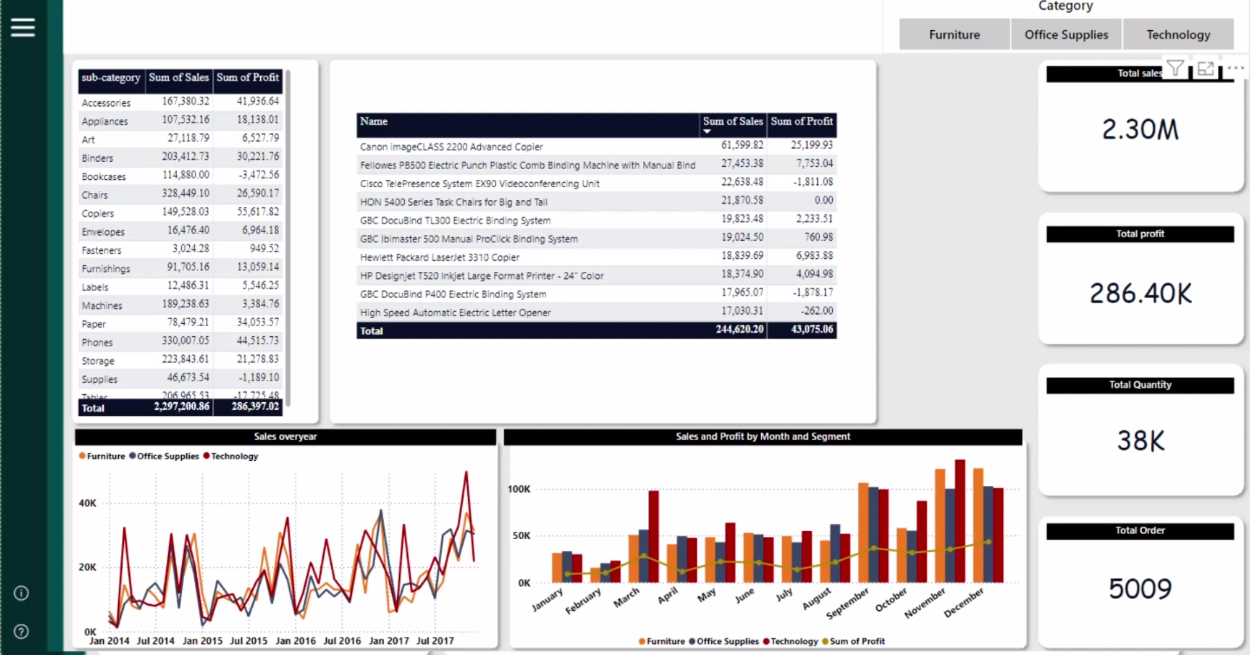

The dashboard page shown, as its layout file describes it:
{"tool":"powerbi","page":{"name":"Product","canvas":[1900,1000],"ordinal":3},"visuals":[{"type":"shape","title":"Close buttom","box":[358.8,0,1541.2,1000],"z":0,"group":"g2"},{"type":"actionButton","title":"Product","box":[36.8,352.9,308.8,61.8],"z":0,"group":"g1"},{"type":"shape","box":[766.7,665,803.3,335],"z":0},{"type":"actionButton","title":"Qs","box":[17.5,936.4,33.2,58.6],"z":0,"group":"g3"},{"type":"shape","title":"Flyout","box":[85.3,0,273.5,1000],"z":1000,"group":"g2"},{"type":"actionButton","title":"Location","box":[36.8,184.3,308.8,61.8],"z":1000,"group":"g1"},{"type":"shape","box":[101.7,665,665,335],"z":1000},{"type":"actionButton","title":"Info","box":[17.5,877.8,33.2,58.6],"z":1000,"group":"g3"},{"type":"actionButton","title":"Menu Button","box":[11.7,6.7,47.8,82.2],"z":2000,"group":"g3"},{"type":"group","id":"g1","title":"page","box":[35.3,100,310.3,314.7],"z":2000,"group":"g2"},{"type":"actionButton","title":"Customer","box":[35.3,268.6,308.8,61.8],"z":2000,"group":"g1"},{"type":"lineChart","title":"Sales overyear","fields":{"Y":["Sum(Forder.Sales)"],"Category":["DimDate.order Date.Variation.Date Hierarchy.Year","DimDate.order Date.Variation.Date Hierarchy.Quarter","DimDate.order Date.Variation.Date Hierarchy.Month"],"Series":["DIMProduct.category"]},"box":[115,658.3,640,341.7],"z":2000},{"type":"actionButton","title":"Sales","box":[36.8,100,308.8,61.8],"z":3000,"group":"g1"},{"type":"lineClusteredColumnComboChart","title":"Sales and Profit by Month and Segment","fields":{"Category":["DimDate.order Date.Variation.Date Hierarchy.Month"],"Y":["Sum(Forder.Sales)"],"Y2":["Sum(Forder.Profit)"],"Series":["DIMProduct.category"]},"box":[766.7,658.3,788.3,341.7],"z":3000},{"type":"shape","box":[1570,781.7,330,218.3],"z":4000},{"type":"shape","box":[1570,550.6,330,218.3],"z":5000},{"type":"shape","box":[1570,319.4,330,218.3],"z":6000},{"type":"shape","box":[1570,88.3,330,218.3],"z":7000},{"type":"card","title":"Total sales","fields":{"Values":["Sum(Forder.Sales)"]},"box":[1591.7,106.7,285,170],"z":8000},{"type":"card","title":"Total profit","fields":{"Values":["Sum(Forder.Profit)"]},"box":[1591.7,350,285,180],"z":9000},{"type":"card","title":"Total Order","fields":{"Values":["Count(Forder.Order ID)"]},"box":[1591.7,801.7,285,176.7],"z":10000},{"type":"card","title":"Total Quantity","fields":{"Values":["Sum(Forder.Quantity)"]},"box":[1591.7,580,285,168.3],"z":11000},{"type":"slicer","title":"Category","fields":{"Values":["DIMProduct.category"]},"box":[1341.7,0,558.3,88.3],"z":14000},{"type":"shape","box":[101.7,88.3,391.7,570],"z":15000},{"type":"shape","box":[493.3,88.3,848.3,570],"z":16000},{"type":"pivotTable","fields":{"Rows":["DIMProduct.sub-category"],"Values":["Sum(Forder.Sales)","Sum(Forder.Profit)"]},"box":[115,106.7,333.3,536.7],"z":17000},{"type":"pivotTable","fields":{"Values":["Sum(Forder.Sales)","Sum(Forder.Profit)"],"Rows":["DIMProduct.Name"]},"box":[538.3,173.3,760,353.3],"z":18000},{"type":"group","id":"g2","title":"opject","box":[35.3,0,1864.7,1000],"z":18250},{"type":"group","id":"g3","title":"Menu Bar","box":[11.7,6.7,48.3,986.7],"z":18500}]}

Visuals, with their boxes in screenshot pixels (x1, y1, x2, y2), scaled from the page's 1900x1000 canvas onto the 1250x655 screenshot:
"Close buttom" shape: (left=236, top=0, right=1249, bottom=654)
"Product" actionButton: (left=24, top=231, right=227, bottom=272)
shape: (left=504, top=436, right=1033, bottom=654)
"Qs" actionButton: (left=12, top=613, right=33, bottom=652)
"Flyout" shape: (left=56, top=0, right=236, bottom=654)
"Location" actionButton: (left=24, top=121, right=227, bottom=161)
shape: (left=67, top=436, right=504, bottom=654)
"Info" actionButton: (left=12, top=575, right=33, bottom=613)
"Menu Button" actionButton: (left=8, top=4, right=39, bottom=58)
"page" group: (left=23, top=66, right=227, bottom=272)
"Customer" actionButton: (left=23, top=176, right=226, bottom=216)
"Sales overyear" lineChart: (left=76, top=431, right=497, bottom=654)
"Sales" actionButton: (left=24, top=66, right=227, bottom=106)
"Sales and Profit by Month and Segment" lineClusteredColumnComboChart: (left=504, top=431, right=1023, bottom=654)
shape: (left=1033, top=512, right=1249, bottom=654)
shape: (left=1033, top=361, right=1249, bottom=504)
shape: (left=1033, top=209, right=1249, bottom=352)
shape: (left=1033, top=58, right=1249, bottom=201)
"Total sales" card: (left=1047, top=70, right=1235, bottom=181)
"Total profit" card: (left=1047, top=229, right=1235, bottom=347)
"Total Order" card: (left=1047, top=525, right=1235, bottom=641)
"Total Quantity" card: (left=1047, top=380, right=1235, bottom=490)
"Category" slicer: (left=883, top=0, right=1249, bottom=58)
shape: (left=67, top=58, right=325, bottom=431)
shape: (left=325, top=58, right=883, bottom=431)
pivotTable - DIMProduct.sub-category x Sum(Forder.Sales): (left=76, top=70, right=295, bottom=421)
pivotTable - Sum(Forder.Sales) x Sum(Forder.Profit): (left=354, top=114, right=854, bottom=345)
"opject" group: (left=23, top=0, right=1249, bottom=654)
"Menu Bar" group: (left=8, top=4, right=39, bottom=651)
